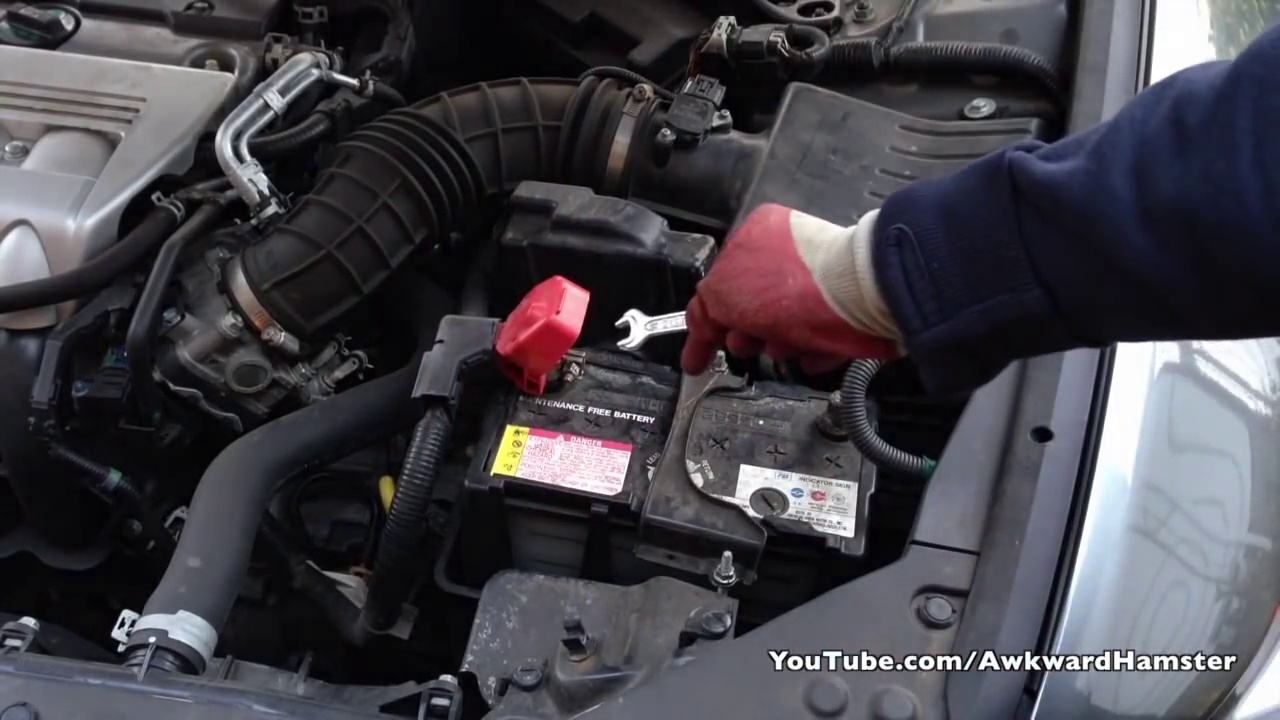battery: (465, 342, 871, 552)
pos_connected: (476, 271, 611, 399)
